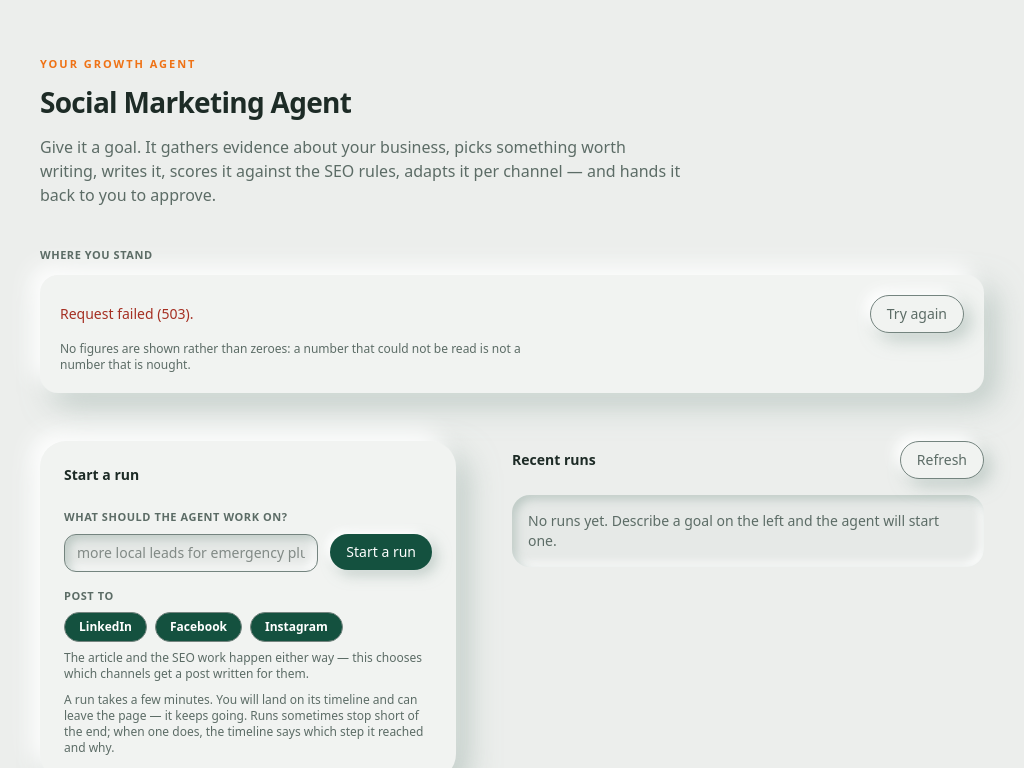
Test: an unmeasured metric › re-reads on demand after a failure
Expected: the message "Request failed (503)." is shown, [60, 304, 193, 324]
Click the button with aria-label "Try loading your numbers again" at coordinates (917, 314), box [870, 295, 964, 333]
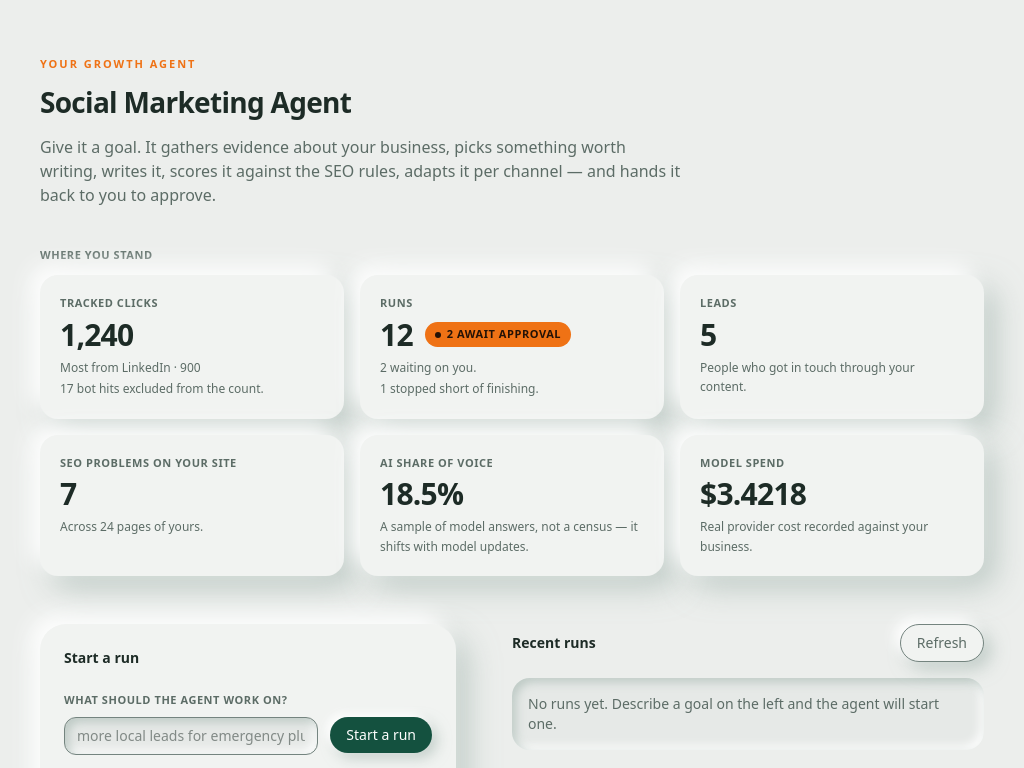
Now the list item "Tracked clicks" shows "1,240", box [60, 314, 134, 354]
